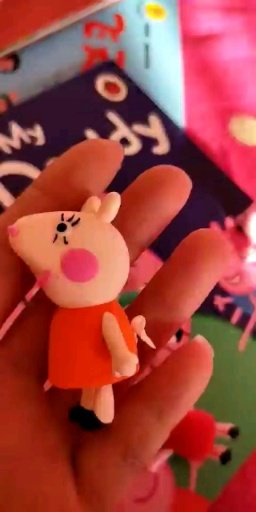Peppa: (9, 189, 158, 439)
